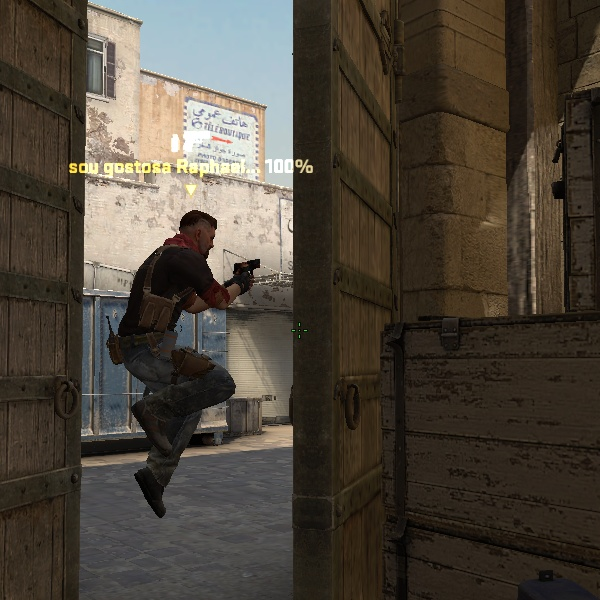t_body: (97, 199, 271, 527)
t_head: (164, 203, 229, 264)
